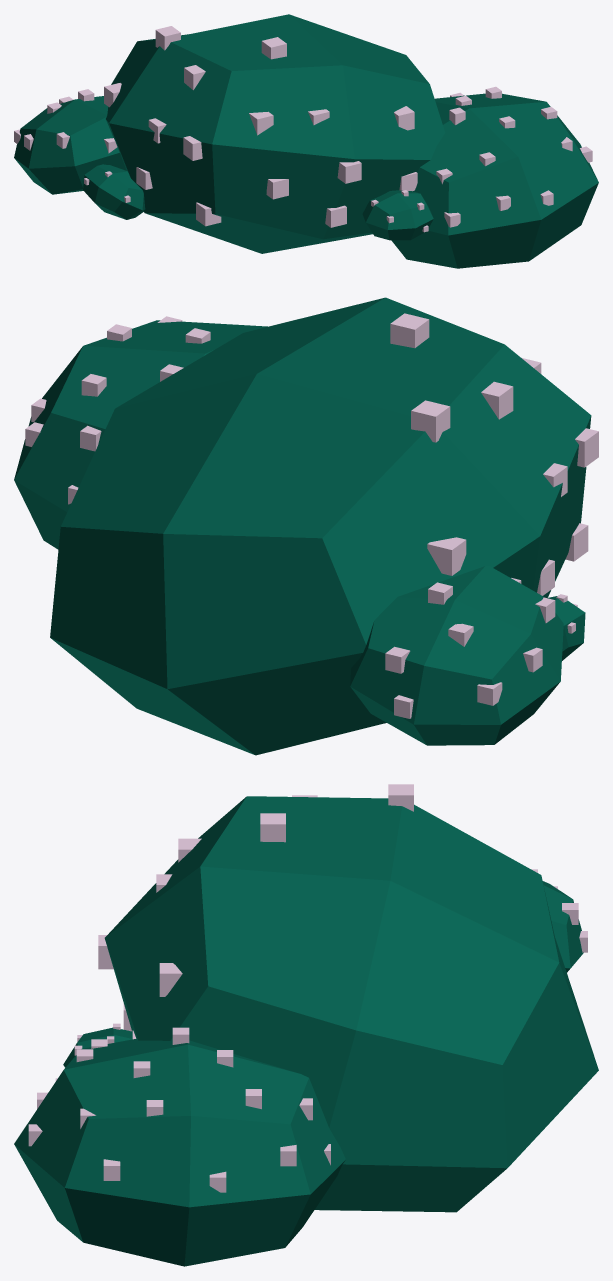
Rendered from Buisson.fbx.
The picture shows the model from 3 angles, top to bottom: view 1: azimuth 30°, elevation 25°; view 2: azimuth 150°, elevation 25°; view 3: azimuth 270°, elevation 25°; orthographic projection. The views are drawn at different scales.
Parts seen in each view (by area): view 1: Cube.002, Cube.051; view 2: Cube.002, Cube.051; view 3: Cube.002, Cube.051.
Part boxes in pixels (x1,y1,x2,y2): Cube.002: (14, 14, 598, 268); Cube.051: (14, 26, 592, 232); Cube.002: (14, 297, 591, 755); Cube.051: (25, 313, 598, 718); Cube.002: (14, 796, 598, 1266); Cube.051: (28, 784, 587, 1192).
Size of the model in its own units: 234 by 115 by 192.
